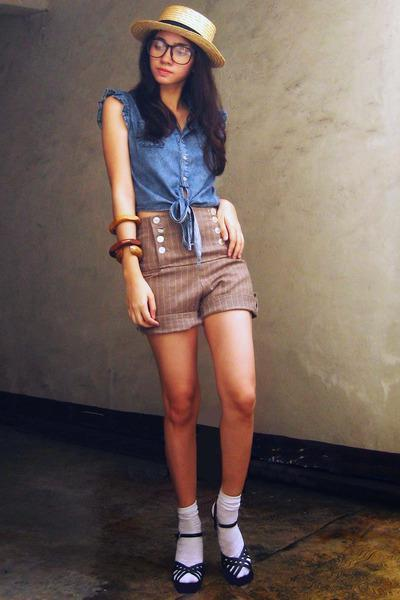Shorts: (128, 199, 258, 338)
short sleeve shirt: (95, 87, 234, 216)
